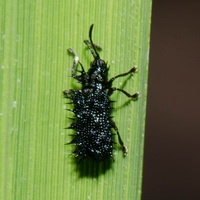insect: (64, 24, 138, 161)
